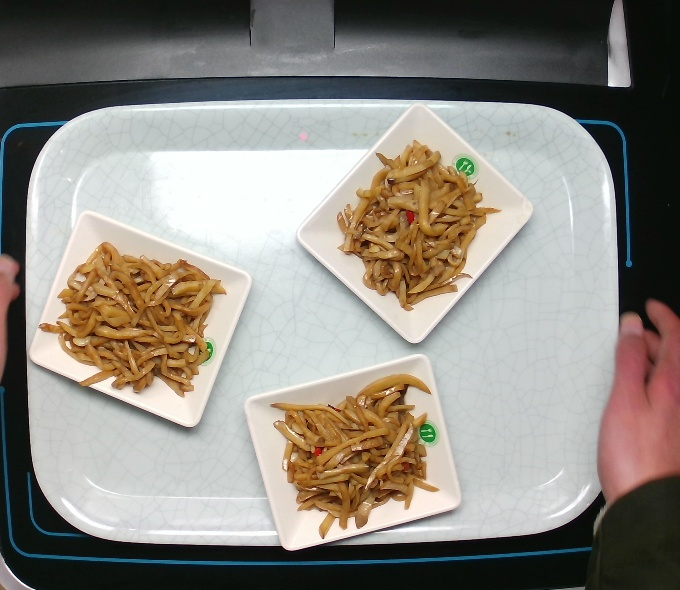wcq-LiangBanMoGu: (49, 238, 224, 398), (267, 372, 429, 536), (336, 138, 489, 311)
